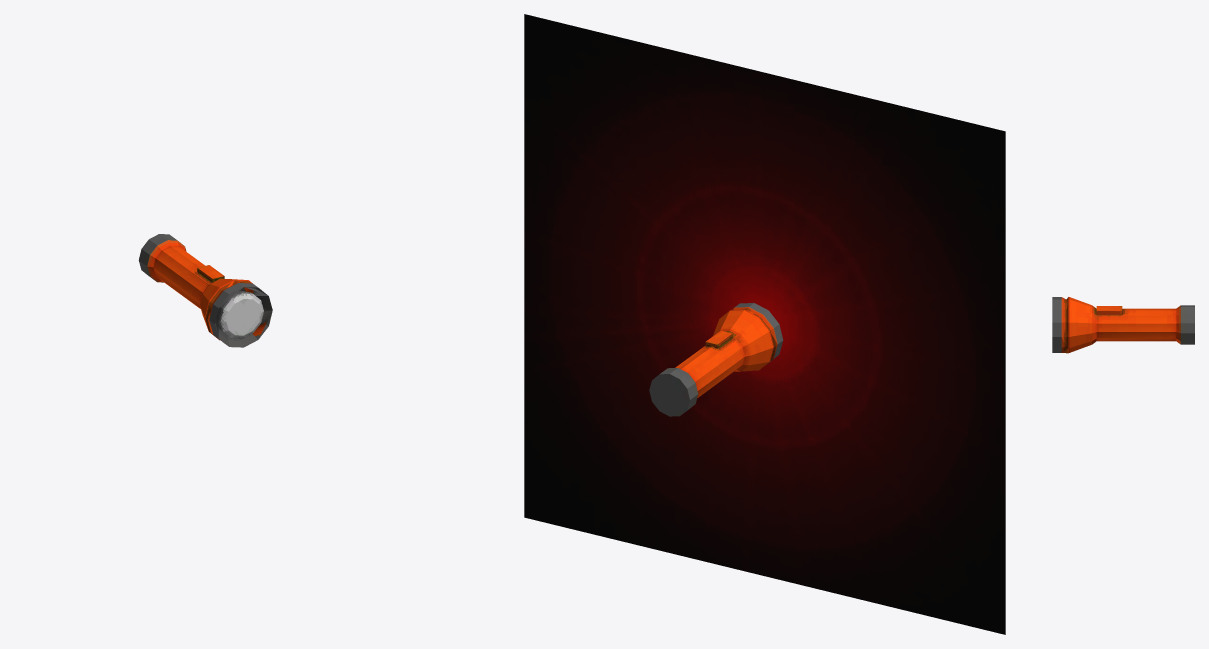
Rendered from item_flashlight_red.glb.
3 views of the same model, side by side, from view 1: azimuth 30°, elevation 25°; view 2: azimuth 150°, elevation 25°; view 3: azimuth 270°, elevation 25° (orthographic). The views are drawn at different scales.
Parts seen in each view (by area): view 1: Flashlight_submesh_0, Flashlight_submesh_1; view 2: Quad, Flashlight_submesh_0; view 3: Flashlight_submesh_0.
Boxes of the visible parts, x1,y1,x2,y2 form: Flashlight_submesh_0: (138,234,272,347); Flashlight_submesh_1: (218,290,263,338); Quad: (524,14,1005,634); Flashlight_submesh_0: (649,303,783,416); Flashlight_submesh_0: (1052,297,1194,353).
Bounding box in the file's own units: 1 × 1 × 0.3442.
3 materials, 3 textured.
